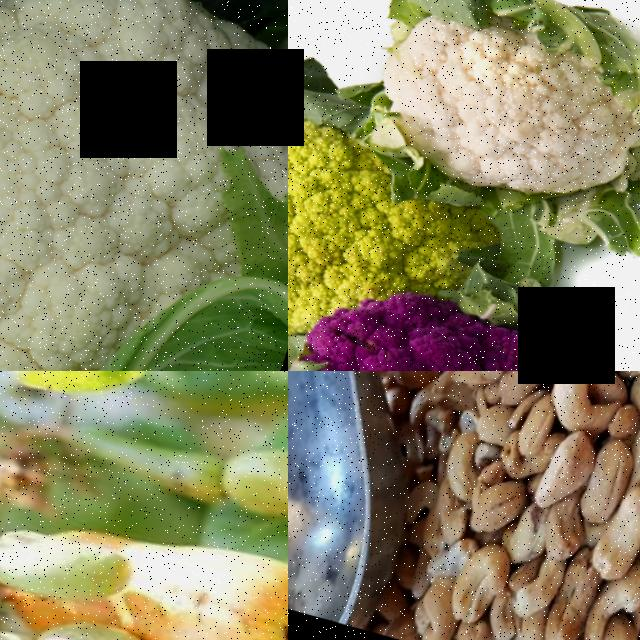cashew: (0, 481, 148, 607), (7, 582, 177, 640), (443, 527, 524, 633), (539, 371, 634, 445), (570, 439, 640, 535), (585, 482, 640, 597), (432, 420, 499, 507), (532, 428, 597, 510), (471, 465, 543, 537)
cauliflower: (0, 0, 288, 371), (368, 0, 640, 215), (288, 111, 519, 343), (288, 275, 618, 371)
